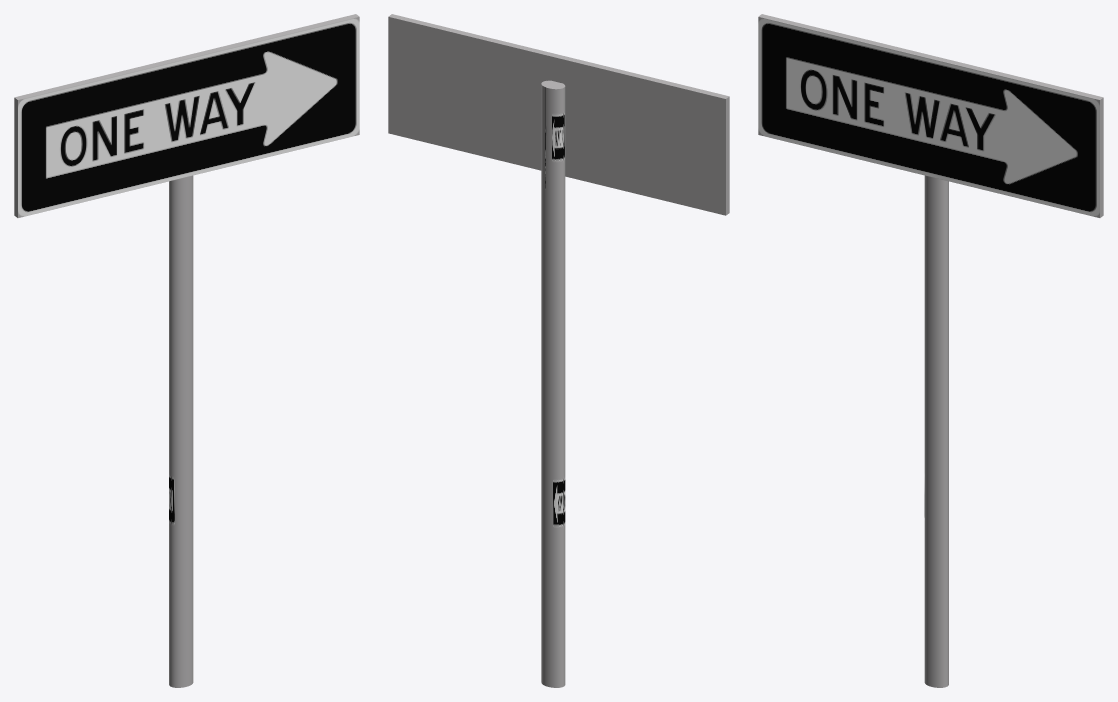
File: oneWaySign.fbx
The picture shows the model from 3 angles, left to right: view 1: azimuth 30°, elevation 25°; view 2: azimuth 150°, elevation 25°; view 3: azimuth 330°, elevation 25°; orthographic projection.
Visible parts, largest first — view 1: pCube2; view 2: pCube2; view 3: pCube2.
Part boxes in pixels (bbox=[...]): pCube2: bbox=[14, 14, 359, 687]; pCube2: bbox=[388, 14, 729, 687]; pCube2: bbox=[758, 14, 1103, 687].
Bounding box in the file's own units: 5.27 × 9.3 × 0.3307.
